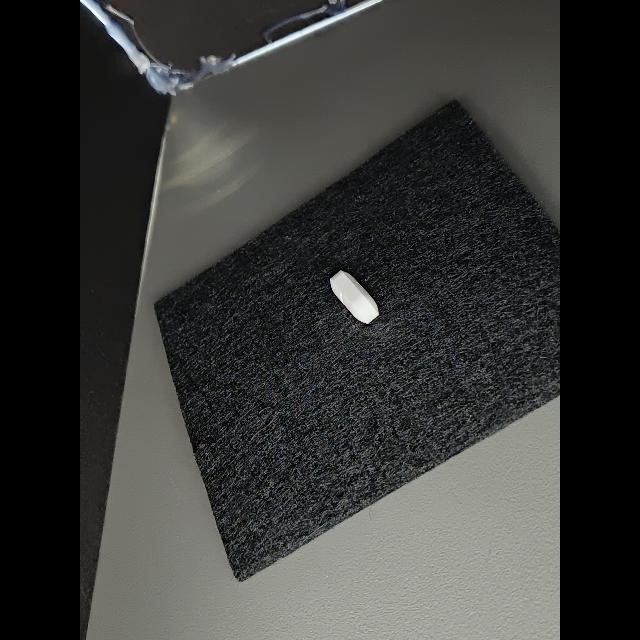Intact Pill: (330, 270, 379, 324)
